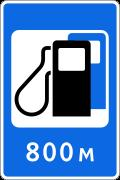Petrol Pump- Gas Station: (6, 21, 120, 138)
